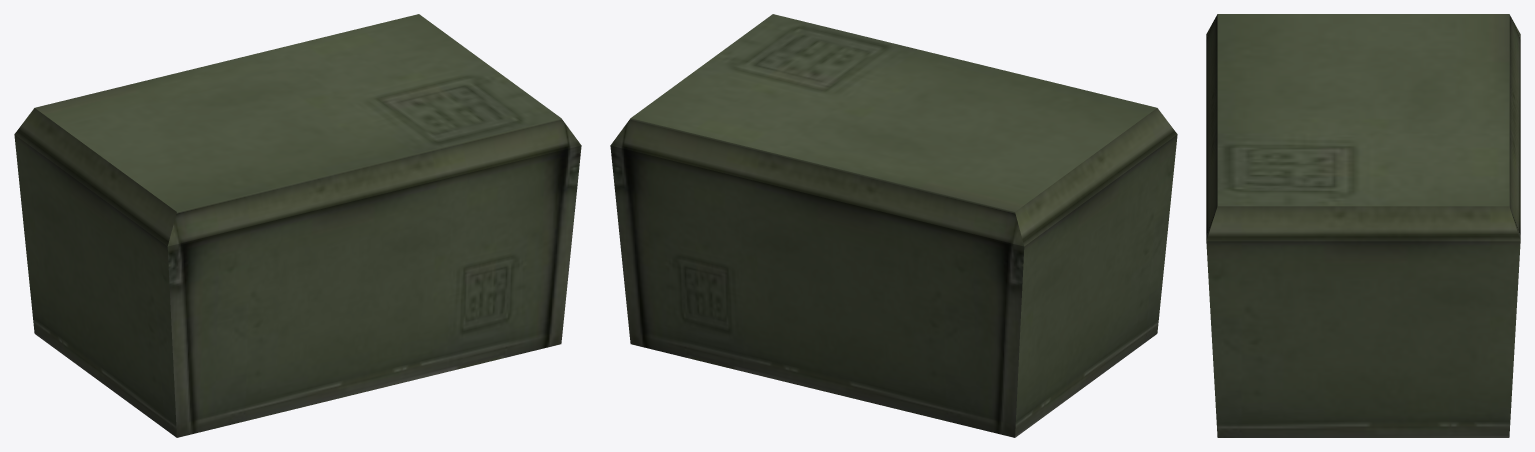
The model's file is ammo_box.fbx.
The picture shows the model from 3 angles, left to right: view 1: azimuth 30°, elevation 25°; view 2: azimuth 150°, elevation 25°; view 3: azimuth 270°, elevation 25°; orthographic projection. The views are drawn at different scales.
Visible parts, largest first — view 1: Ammo_Box_Closed; view 2: Ammo_Box_Closed; view 3: Ammo_Box_Closed.
Boxes of the visible parts, x1,y1,x2,y2 form: Ammo_Box_Closed: [14, 14, 581, 437]; Ammo_Box_Closed: [610, 14, 1177, 437]; Ammo_Box_Closed: [1206, 14, 1520, 437].
Bounding box in the file's own units: 577 × 301 × 370.
1 material, 1 textured.
